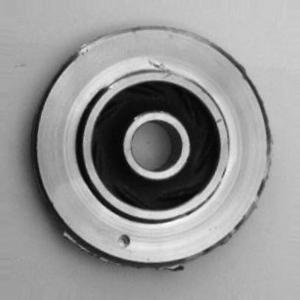casting_with_burr: (30, 24, 277, 274)
crack: (145, 55, 179, 81)
pit: (114, 229, 135, 256)
scratch: (202, 113, 235, 132)
